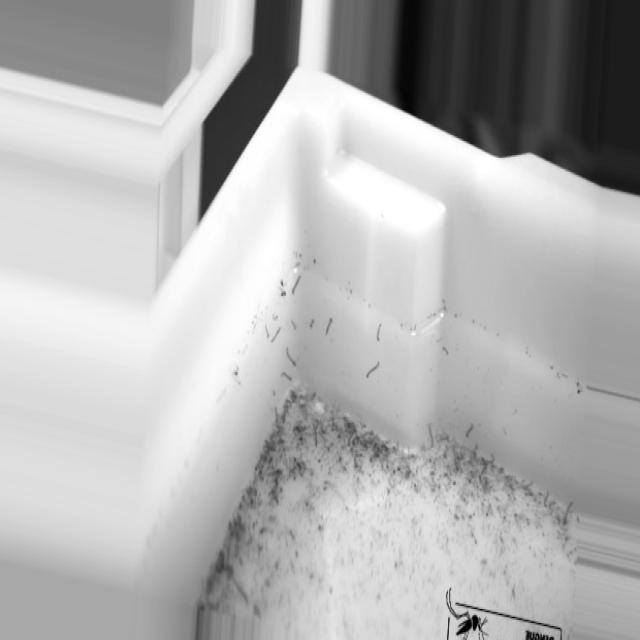larvas: (232, 578, 248, 604), (563, 501, 573, 525), (285, 347, 295, 367), (270, 327, 281, 345), (216, 549, 225, 571), (366, 364, 379, 379), (428, 423, 434, 447), (436, 435, 450, 445), (292, 277, 300, 293), (325, 318, 332, 336), (527, 481, 534, 497), (376, 321, 381, 343), (482, 455, 494, 464), (280, 283, 287, 298), (466, 424, 474, 436), (274, 407, 279, 425), (281, 373, 292, 381), (314, 427, 318, 448), (470, 445, 479, 454), (549, 500, 557, 510), (576, 381, 582, 394), (436, 432, 449, 438), (544, 490, 548, 507), (291, 318, 297, 329), (443, 347, 449, 357), (272, 313, 280, 320), (265, 326, 269, 338), (310, 316, 314, 328)
